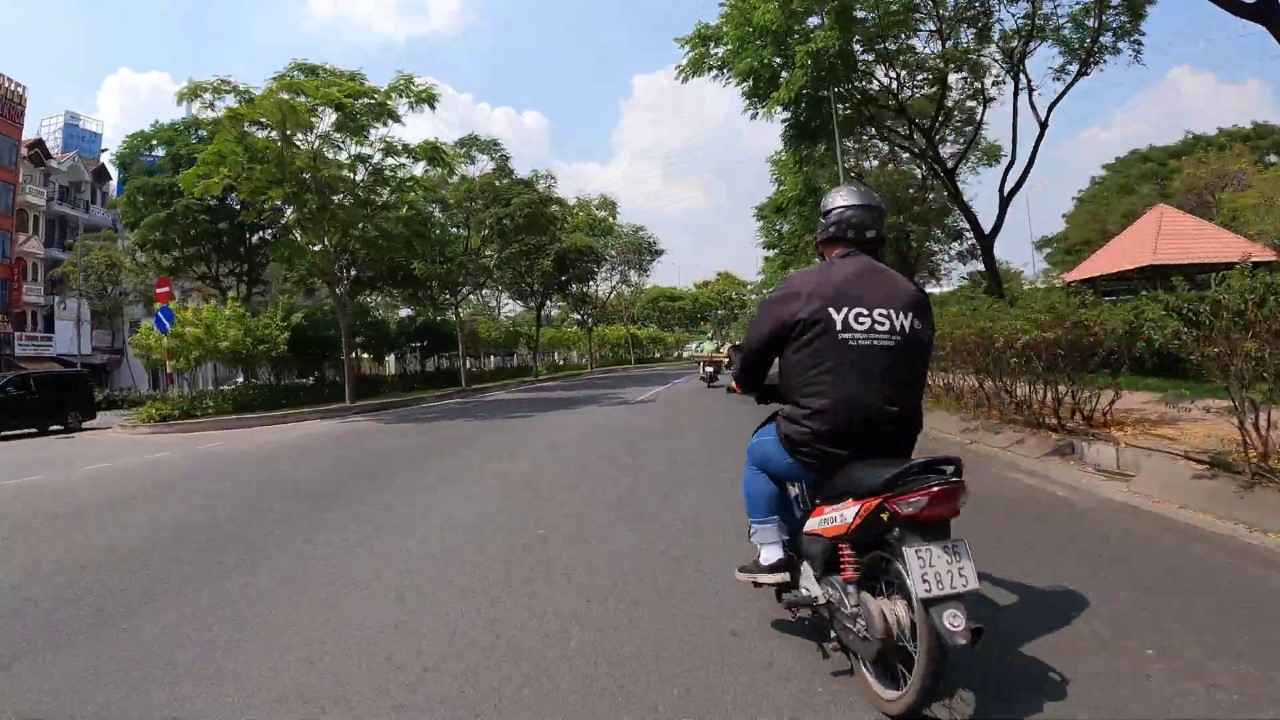cam_nguoc_chieu: (153, 277, 173, 304)
huong_phai_di_vong: (154, 306, 175, 332)
